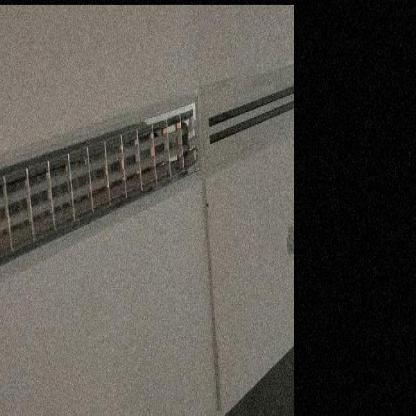light_off: (0, 89, 206, 317)
